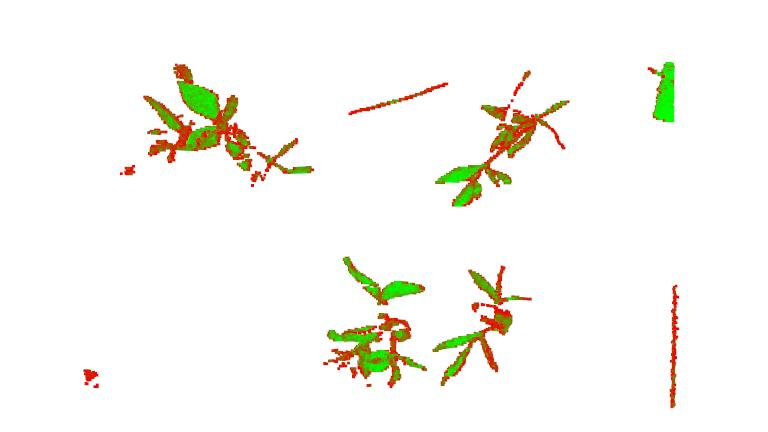mungbean: (139, 62, 319, 183), (433, 93, 576, 208), (321, 251, 428, 393), (435, 261, 519, 392)
